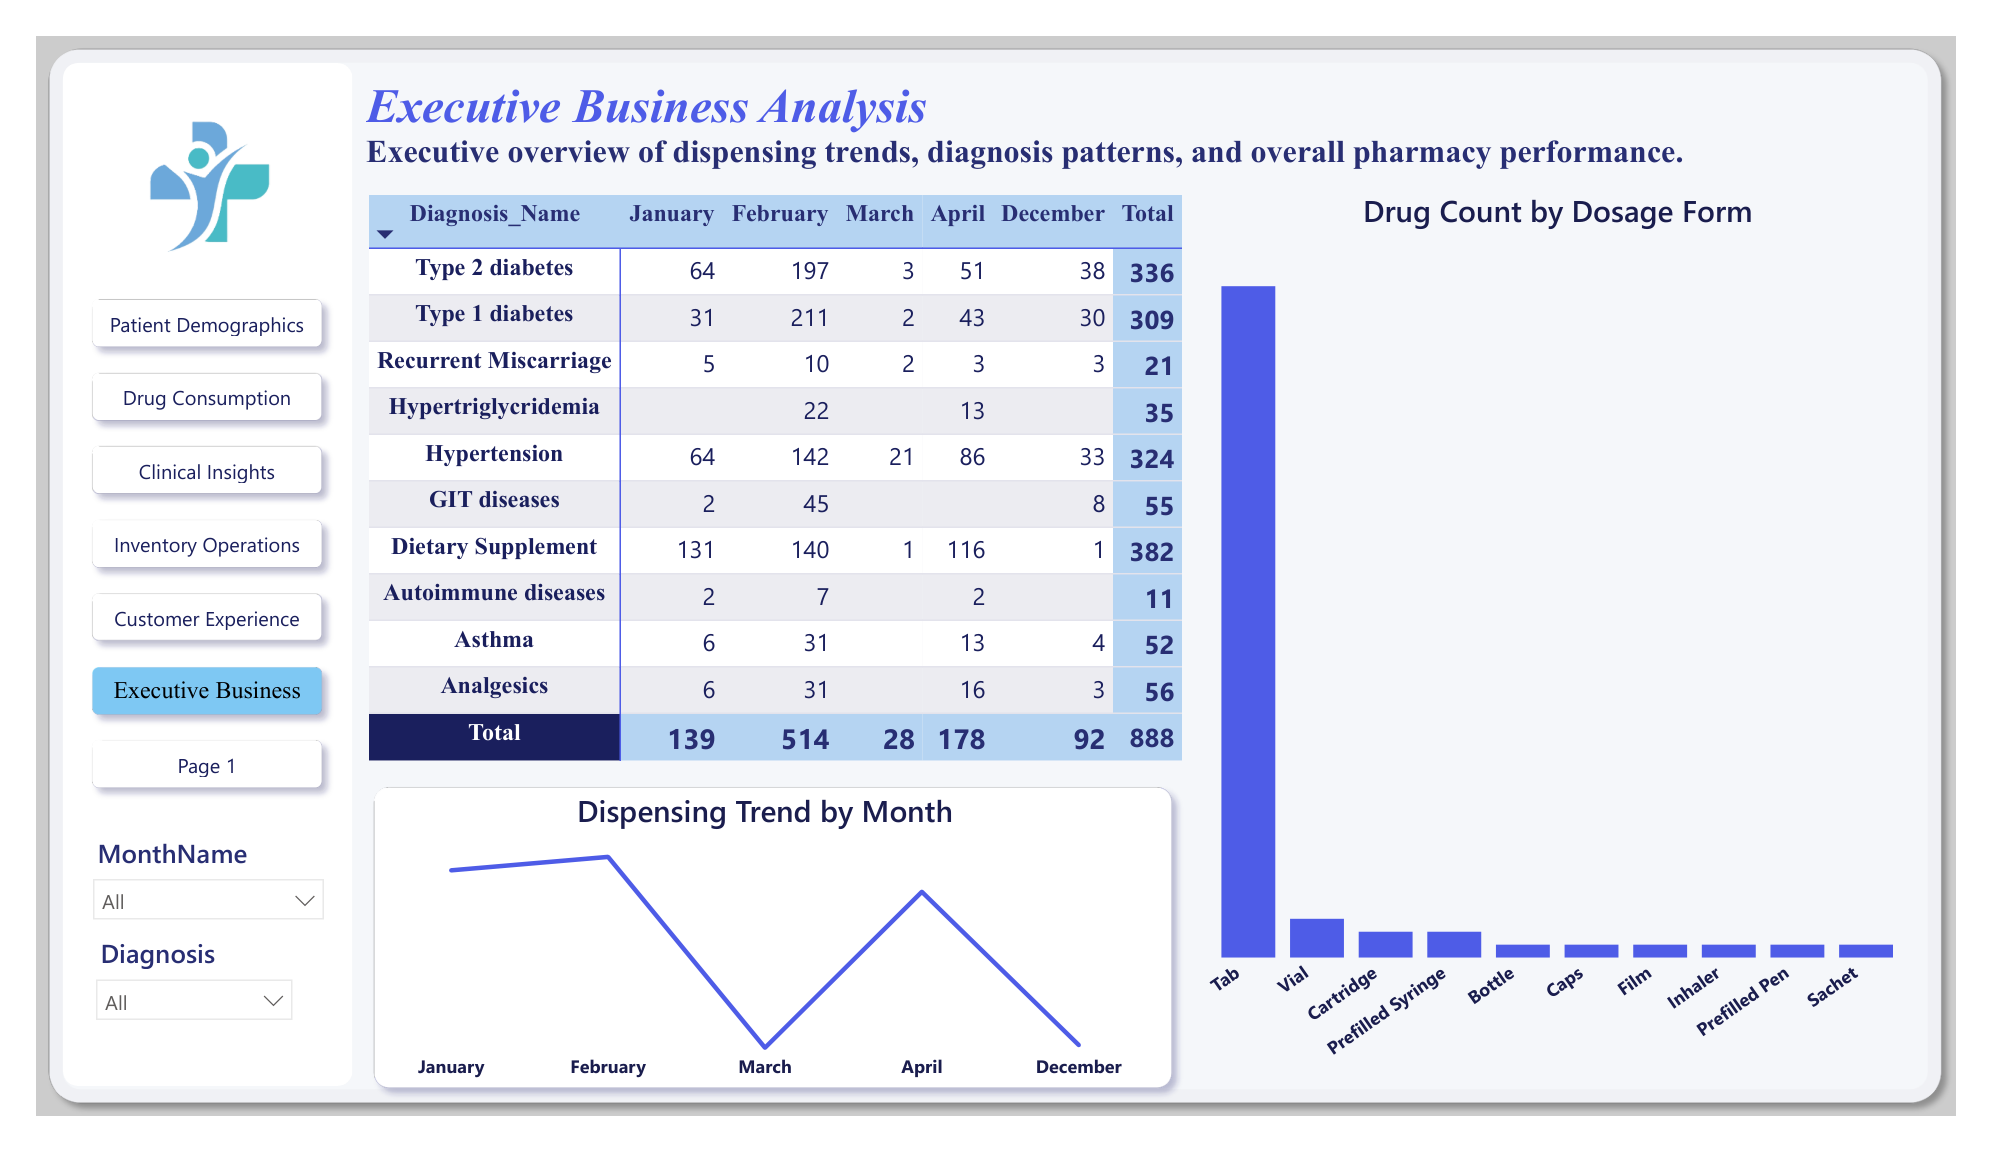

This screenshot's page, from the dashboard's own definition file:
{"tool":"powerbi","page":{"name":"Executive Business","canvas":[1280,720],"ordinal":5},"visuals":[{"type":"shape","box":[0,0,1279.3,719.9],"z":0},{"type":"shape","box":[18.3,18.3,192.6,681.7],"z":1000},{"type":"image","box":[38.2,36.7,151.3,114.6],"z":2000},{"type":"textbox","box":[215.4,23.1,1010.8,72.3],"z":3000},{"type":"pageNavigator","box":[29,166.6,169.7,348.5],"z":4000},{"type":"group","id":"g1","title":"Group 2","box":[216.7,491.7,550,218.3],"z":6000},{"type":"group","id":"g2","title":"Group 2","box":[217,100.9,561.7,396.7],"z":8000},{"type":"slicer","fields":{"Values":["DimDate.MonthName"]},"box":[27.5,527.3,174.2,67.3],"z":9000},{"type":"slicer","fields":{"Values":["Diagnosis.Diagnosis_Name"]},"box":[29.7,594.3,151.5,93.6],"z":10000},{"type":"clusteredColumnChart","title":"Drug Count by Dosage Form","fields":{"Category":["Drug.Dosage_Form"],"Y":["CountNonNull(Drug.Drug_Name)"]},"box":[766.7,101.7,495,598.3],"z":10001},{"type":"shape","box":[216.7,491.7,549.4,218.3],"z":11000,"group":"g1"},{"type":"pivotTable","title":"Top 10 Most Common Diagnoses","fields":{"Rows":["Dispense.Diagnosis_Name"],"Columns":["DimDate.MonthName"],"Values":["Count(Dispense.Patient_ID)"]},"box":[217,100.9,561.7,396.7],"z":11500,"group":"g2"},{"type":"lineChart","title":"Dispensing Trend by Month","fields":{"Category":["DimDate.MonthName"],"Y":["CountNonNull(Dispense.Dispense_ID)"]},"box":[229.4,501.4,512.5,204.4],"z":11500,"group":"g1"}]}

Visuals, with their boxes on the page's 1280x720 design canvas (x1, y1, x2, y2). These are canvas units, not pixel positions in the 1992x1152 screenshot, which may show the page scaled, cropped or inside an application window:
shape: 0/0/1279/720
shape: 18/18/211/700
image: 38/37/190/151
textbox: 215/23/1226/95
pageNavigator: 29/167/199/515
"Group 2" group: 217/492/767/710
"Group 2" group: 217/101/779/498
slicer - DimDate.MonthName: 28/527/202/595
slicer - Diagnosis.Diagnosis_Name: 30/594/181/688
"Drug Count by Dosage Form" clusteredColumnChart: 767/102/1262/700
shape: 217/492/766/710
"Top 10 Most Common Diagnoses" pivotTable: 217/101/779/498
"Dispensing Trend by Month" lineChart: 229/501/742/706
